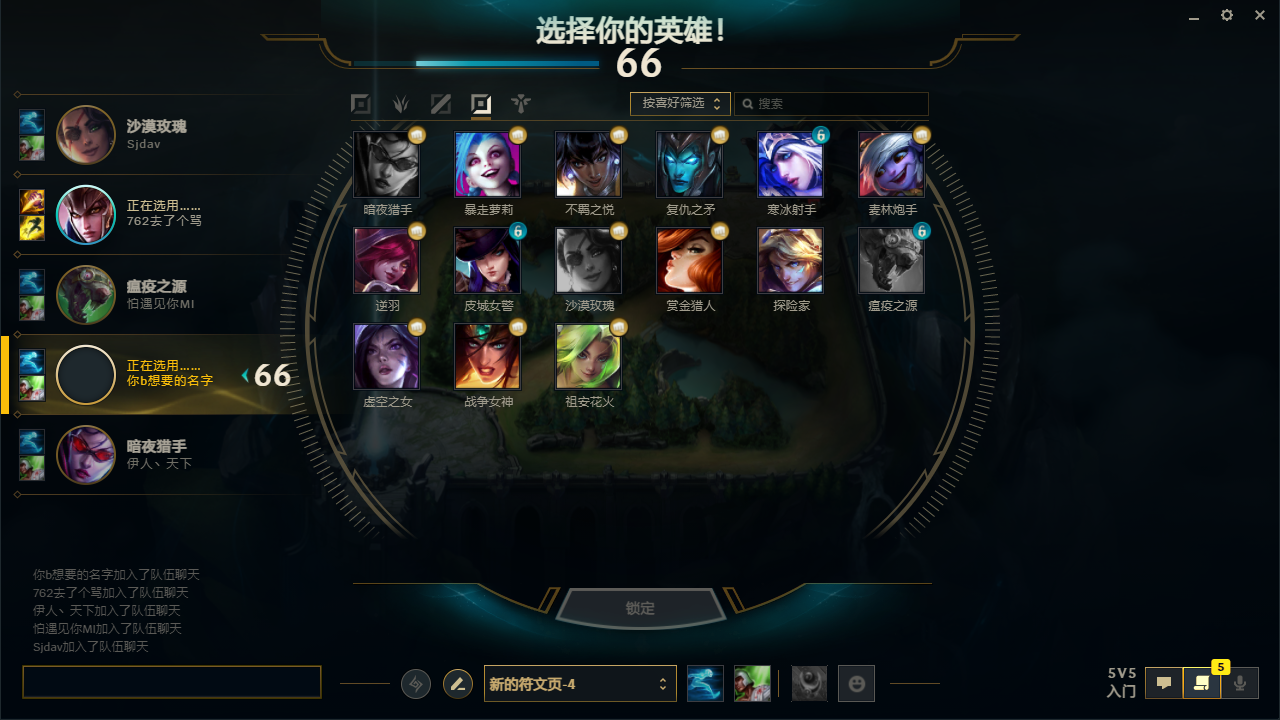HBSS: (755, 149, 830, 198)
HSSD: (552, 580, 729, 632)
JKS: (450, 153, 523, 194)
NJ: (449, 246, 529, 300)
NQ: (652, 246, 728, 297)
XDXL: (464, 90, 497, 118)
XP: (852, 152, 927, 196)
